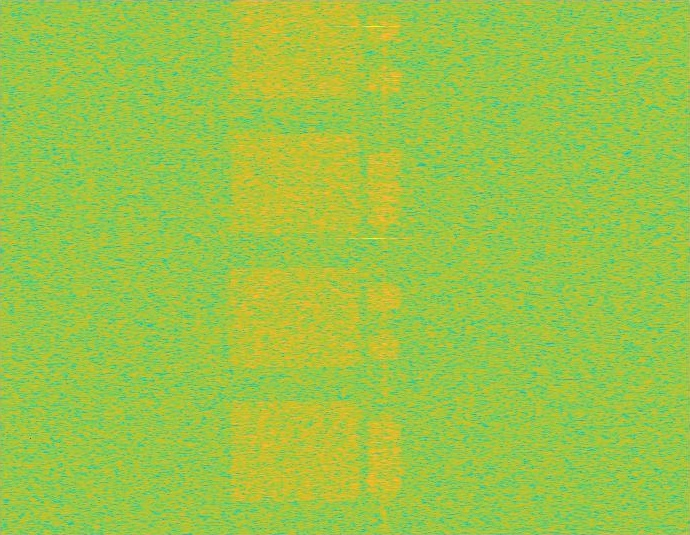5G: (227, 0, 365, 534)
DSSS: (382, 0, 387, 534)
LTE: (367, 0, 402, 534)
Radar: (367, 0, 381, 534)
